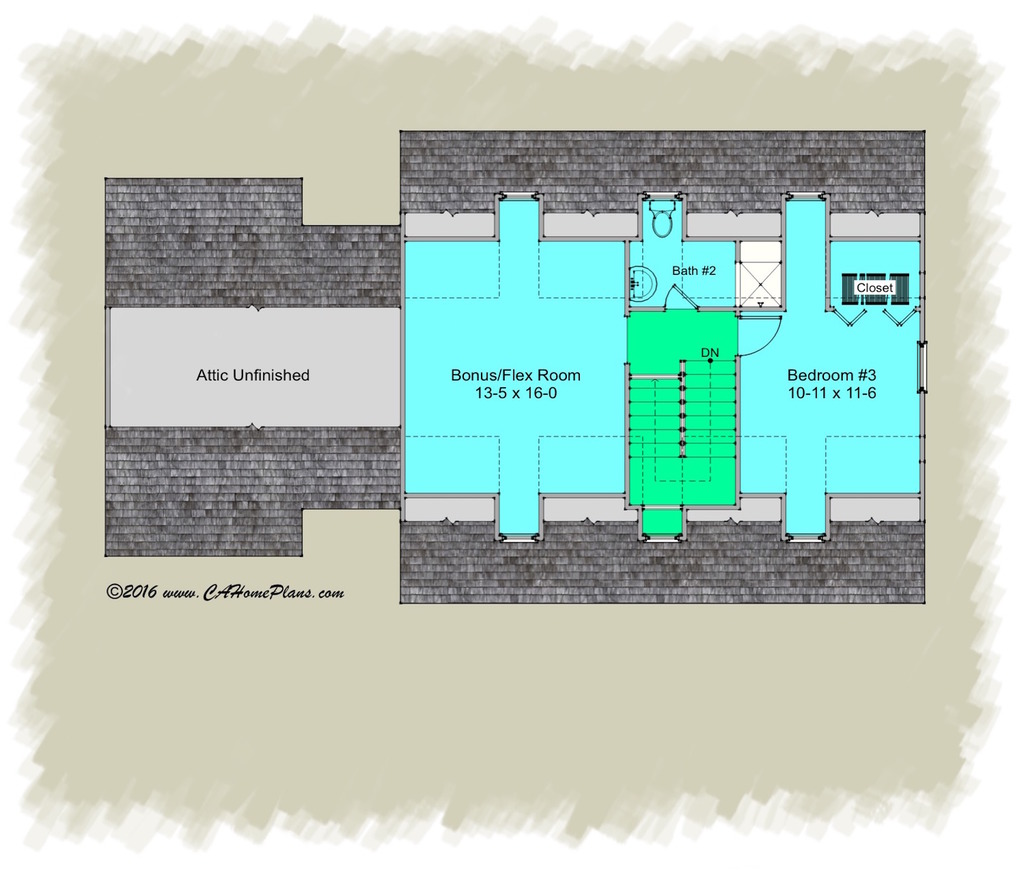door: (733, 315, 789, 358), (660, 284, 696, 315)
large_sink: (645, 191, 679, 243)
small_sink: (627, 260, 659, 306)
stairs: (626, 310, 742, 512)
